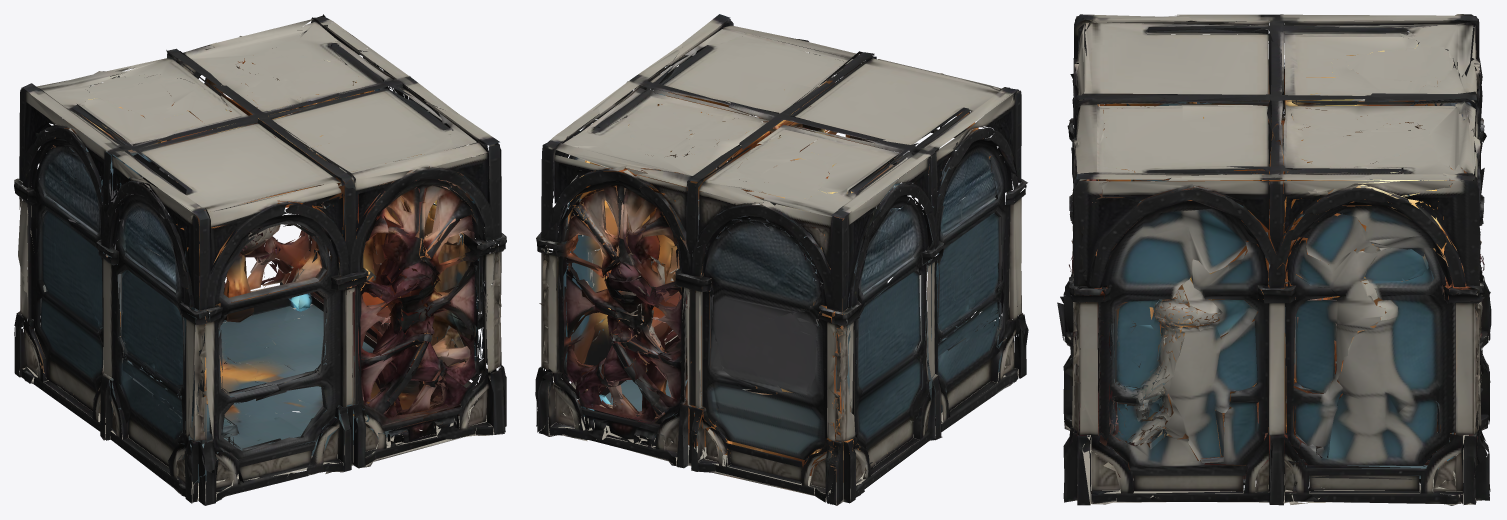
Rendered from evac_mixed_crew_divider.glb.
3 views of the same model, side by side, from view 1: azimuth 30°, elevation 25°; view 2: azimuth 150°, elevation 25°; view 3: azimuth 270°, elevation 25° (orthographic). The views are drawn at different scales.
Parts seen in each view (by area): view 1: node_0; view 2: node_0; view 3: node_0.
Boxes of the visible parts, left/top/right/bottom form: node_0: left=14, top=14, right=506, bottom=505; node_0: left=535, top=14, right=1028, bottom=505; node_0: left=1057, top=14, right=1491, bottom=505.
Bounding box in the file's own units: 0.737 × 0.6409 × 0.7717.
Materials: 1 (1 with a texture image).
